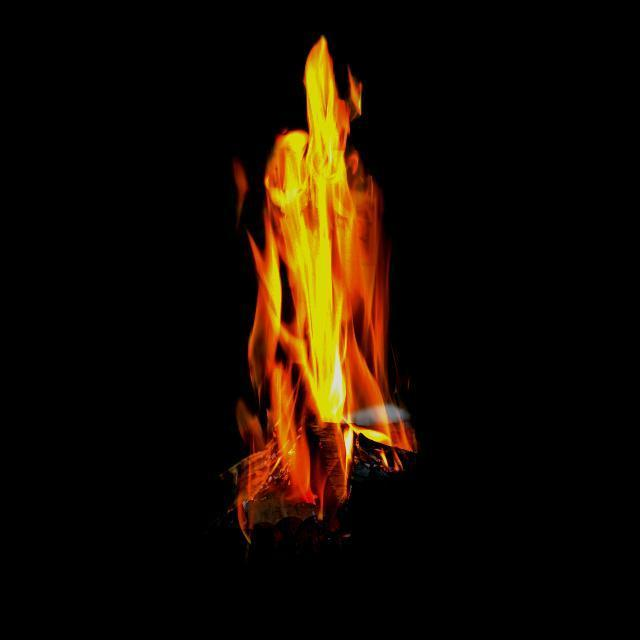Fire: (222, 35, 416, 539)
